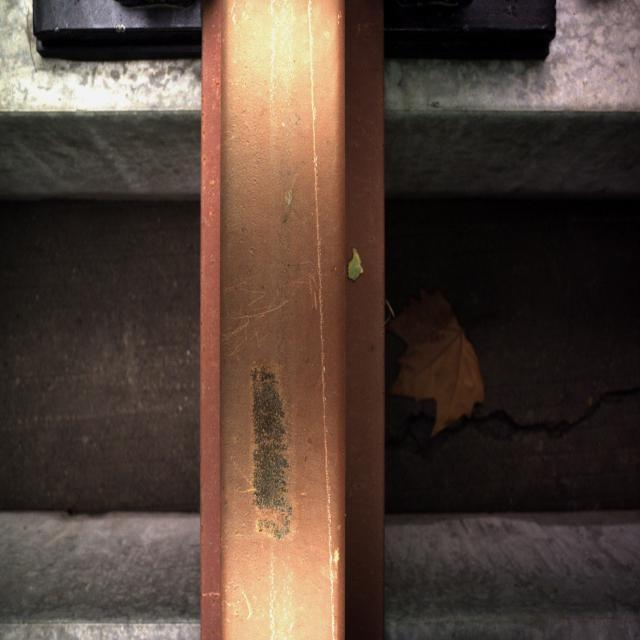scar: (226, 315, 322, 575)
